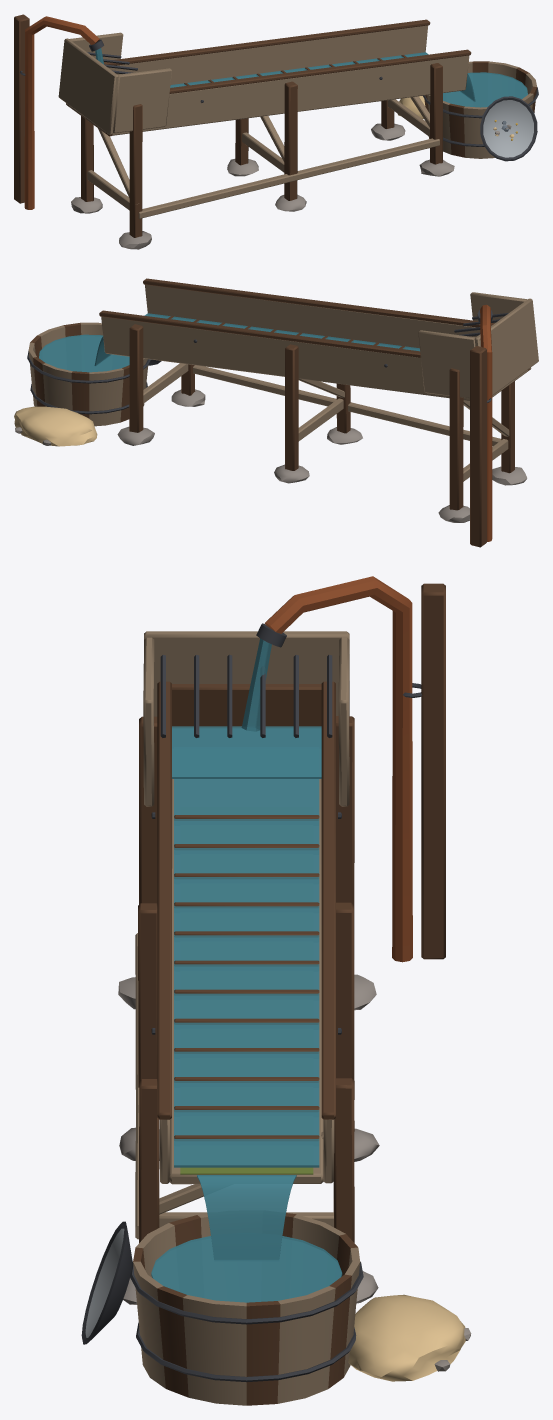
File: deco_sluice_box.fbx
The picture shows the model from 3 angles, top to bottom: view 1: azimuth 30°, elevation 25°; view 2: azimuth 150°, elevation 25°; view 3: azimuth 270°, elevation 25°; orthographic projection. The views are drawn at different scales.
Visible parts, largest first — view 1: SluiceBox_Trough, SluiceBox_Legs, SluiceBox_Tub, SluiceBox_Pan, SluiceBox_Water; view 2: SluiceBox_Trough, SluiceBox_Legs, SluiceBox_Tub, SluiceBox_Water; view 3: SluiceBox_Water, SluiceBox_Trough, SluiceBox_Legs, SluiceBox_Tub, SluiceBox_Pan.
Part boxes in pixels (x1,y1,x2,y2): SluiceBox_Trough: (58,19,471,136); SluiceBox_Legs: (14,14,454,249); SluiceBox_Tub: (398,61,538,158); SluiceBox_Pan: (480,96,537,161); SluiceBox_Water: (95,48,527,107); SluiceBox_Trough: (99,278,538,400); SluiceBox_Legs: (117,304,527,547); SluiceBox_Tub: (14,322,150,446); SluiceBox_Water: (39,313,419,372); SluiceBox_Water: (151,638,342,1302); SluiceBox_Trough: (143,631,349,1184); SluiceBox_Legs: (118,576,445,1304); SluiceBox_Tub: (130,1213,471,1405); SluiceBox_Pan: (81,1221,132,1344).
Size of the model in its own units: 522 by 208 by 188.
